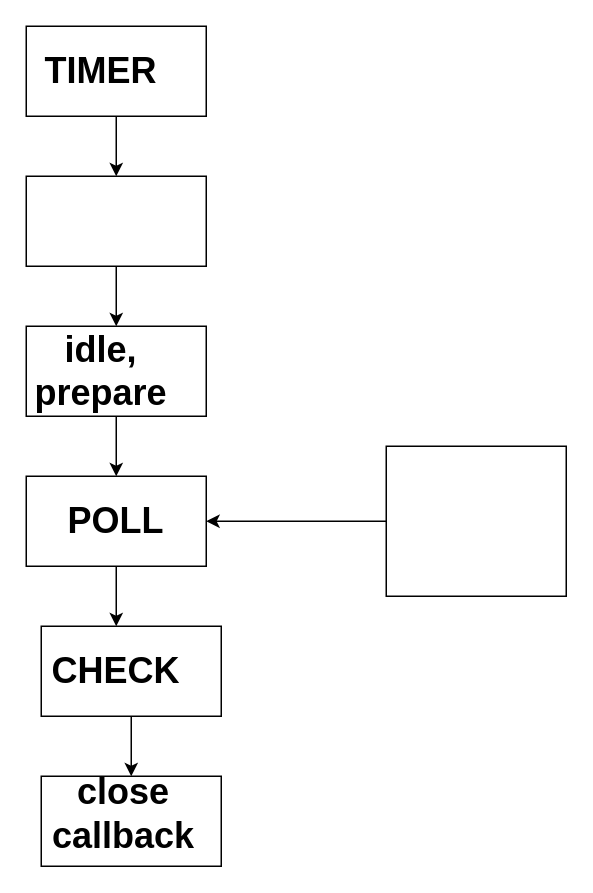
Some shapes in this 593 by 893 pixel diagram are drawn without their labels. The centre of each missing label's shape, as x and y in pixels:
"incoming: connection, data" belongs at (475,520).
"pending callback" belongs at (115,220).
